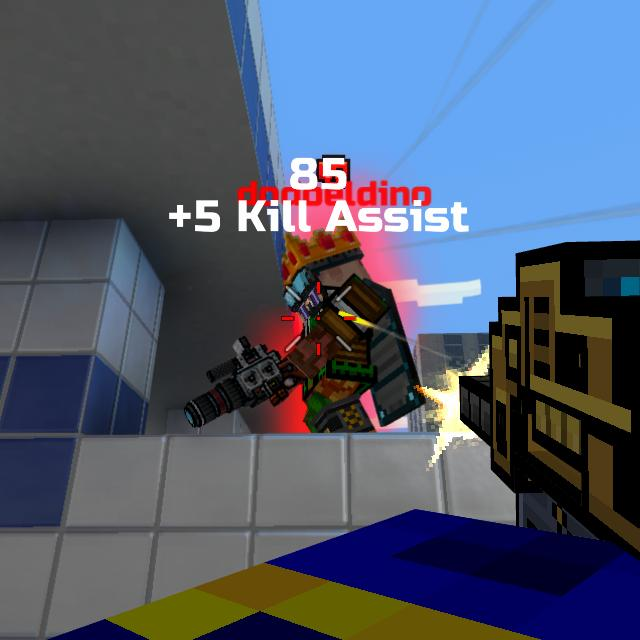Enemy: (286, 229, 412, 430)
